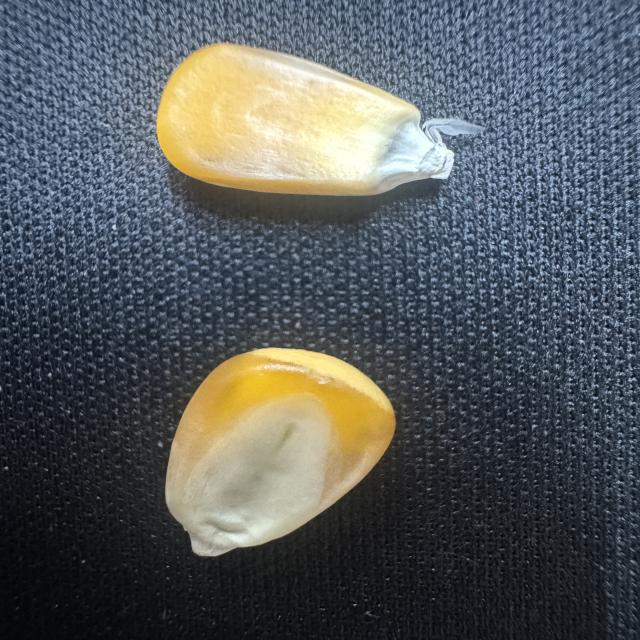Good-Seed: (148, 39, 488, 202), (158, 343, 404, 559)
